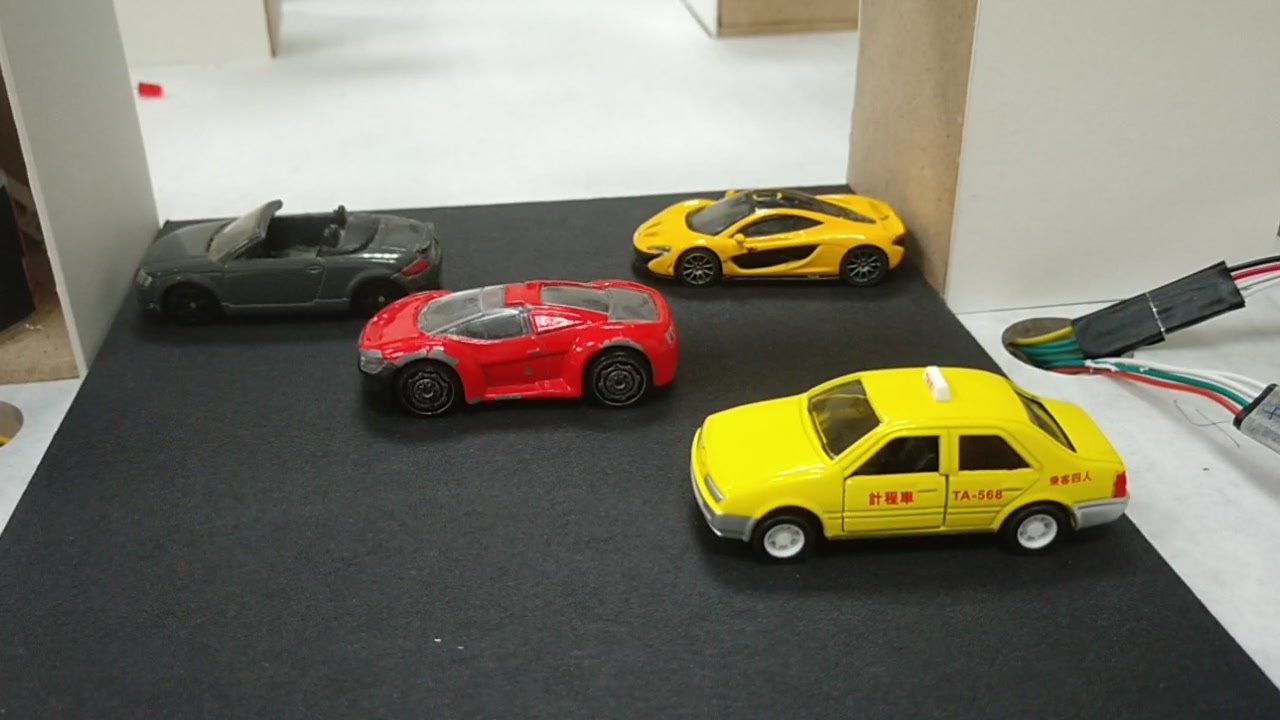car: (703, 362, 1129, 553), (356, 281, 677, 406), (139, 214, 442, 316), (633, 186, 907, 286)
